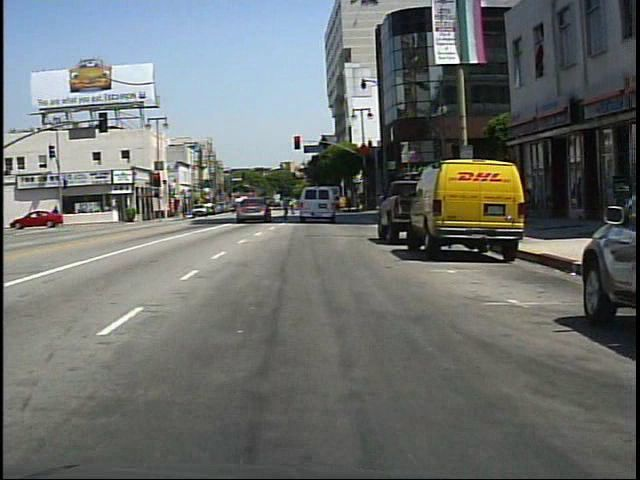person: (517, 183, 541, 226), (277, 191, 295, 223), (50, 203, 65, 231), (287, 196, 298, 218)
